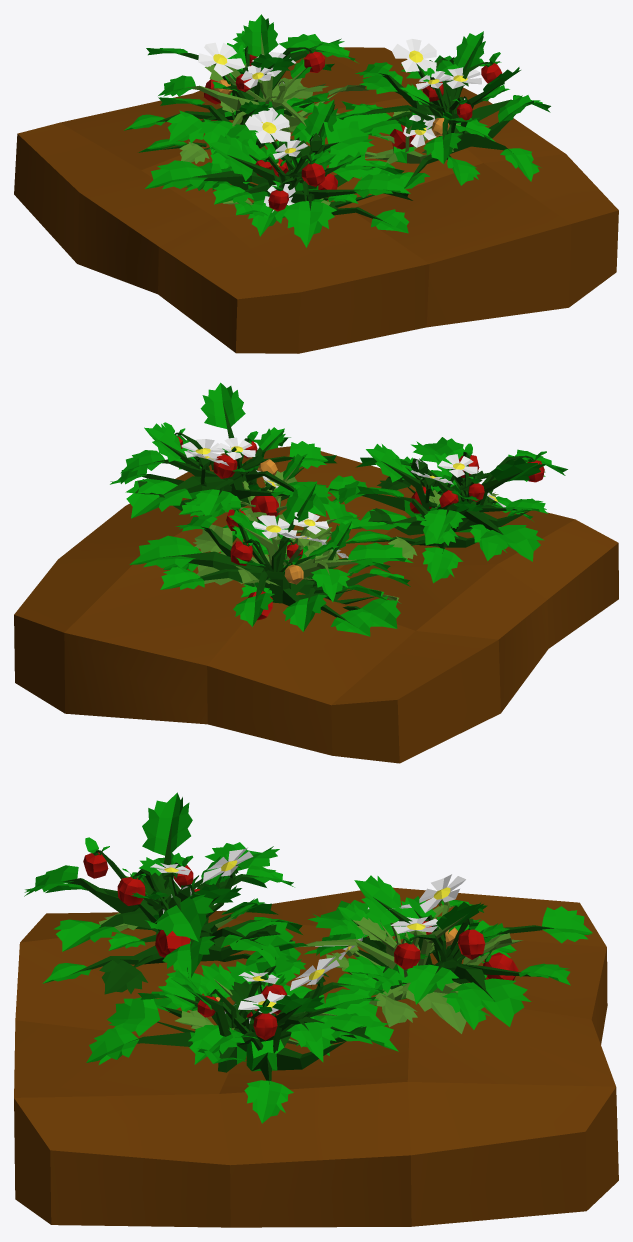
File: strawberries-field.glb
3 views of the same model, one above another, from view 1: azimuth 30°, elevation 25°; view 2: azimuth 150°, elevation 25°; view 3: azimuth 270°, elevation 25° (orthographic). The views are drawn at different scales.
Visible parts, largest first — view 1: ground6, strawberry_3, strawberry_2, strawberry_1; view 2: ground6, strawberry_3, strawberry_2, strawberry_1; view 3: ground6, strawberry_3, strawberry_2, strawberry_1.
Boxes of the visible parts, box(x1,y1,x2,y2) form: ground6: box(14, 47, 618, 353); strawberry_3: box(124, 30, 541, 247); strawberry_2: box(145, 14, 550, 233); strawberry_1: box(138, 77, 494, 236); ground6: box(14, 446, 618, 763); strawberry_3: box(120, 382, 567, 636); strawberry_2: box(110, 423, 548, 601); strawberry_1: box(179, 454, 533, 631); ground6: box(14, 887, 618, 1227); strawberry_3: box(24, 792, 592, 1072); strawberry_2: box(42, 842, 522, 1123); strawberry_1: box(99, 873, 516, 1064).
Size of the model in its own units: 3.57 by 1.53 by 3.57.
